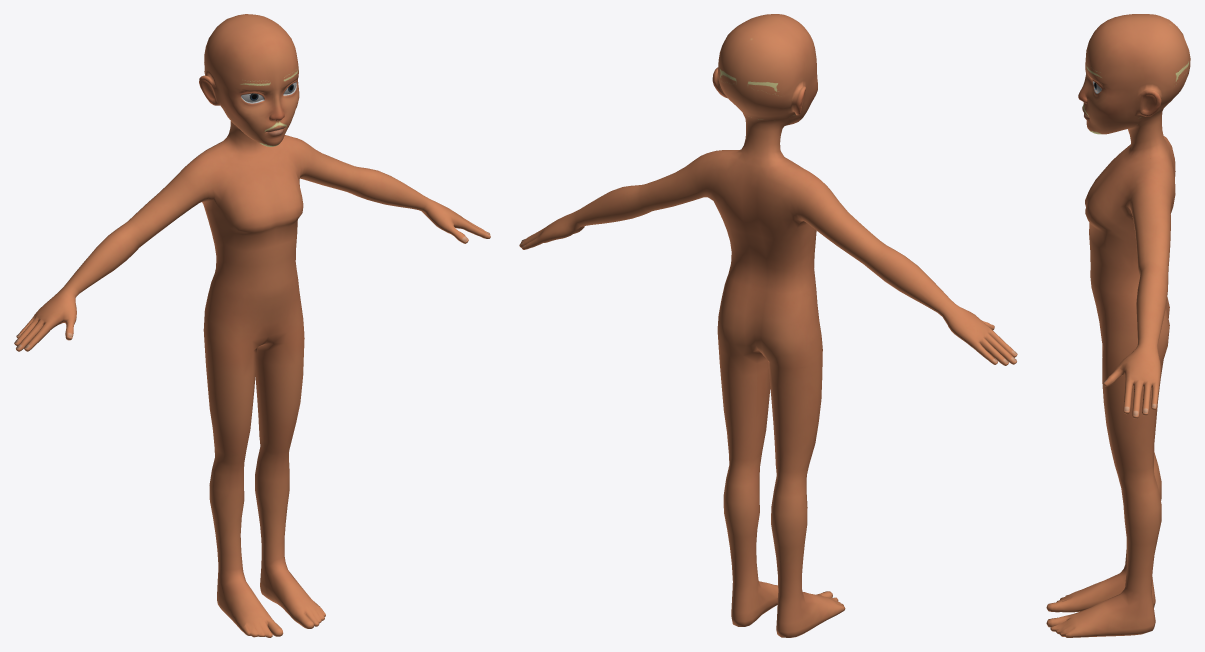
Rendered from frame_0006.glb.
The picture shows the model from 3 angles, left to right: view 1: azimuth 30°, elevation 25°; view 2: azimuth 150°, elevation 25°; view 3: azimuth 270°, elevation 25°; orthographic projection. The views are drawn at different scales.
Visible parts, largest first — view 1: frame_0006_head_geo; view 2: frame_0006_head_geo; view 3: frame_0006_head_geo.
Part boxes in pixels (bbox=[...]): frame_0006_head_geo: bbox=[14, 14, 490, 637]; frame_0006_head_geo: bbox=[519, 14, 1017, 637]; frame_0006_head_geo: bbox=[1046, 14, 1190, 637].
Bounding box in the file's own units: 1.28 × 1.5 × 0.3253.
Materials: 4 (2 with a texture image).
